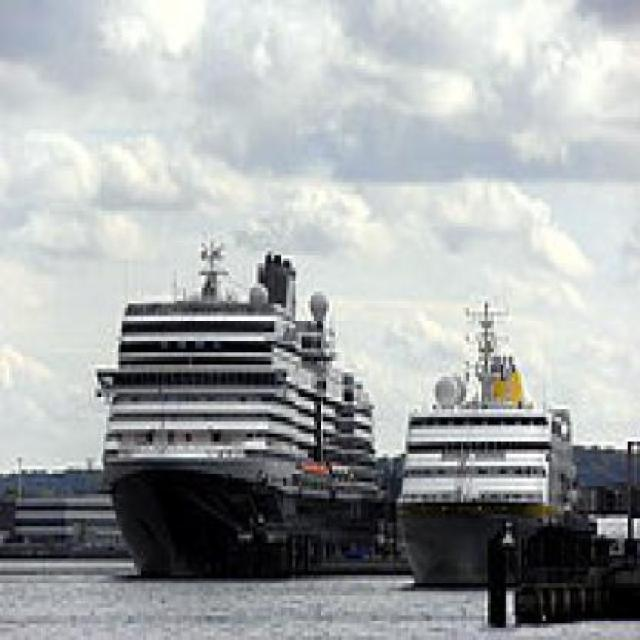cruise: (89, 237, 382, 577), (388, 289, 583, 584)
